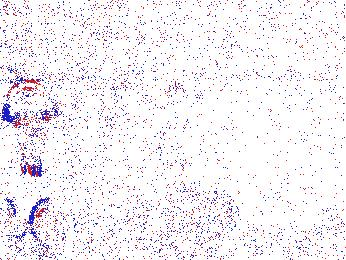flame jellyfish: (4, 80, 57, 177), (29, 197, 77, 251), (211, 191, 240, 237)
